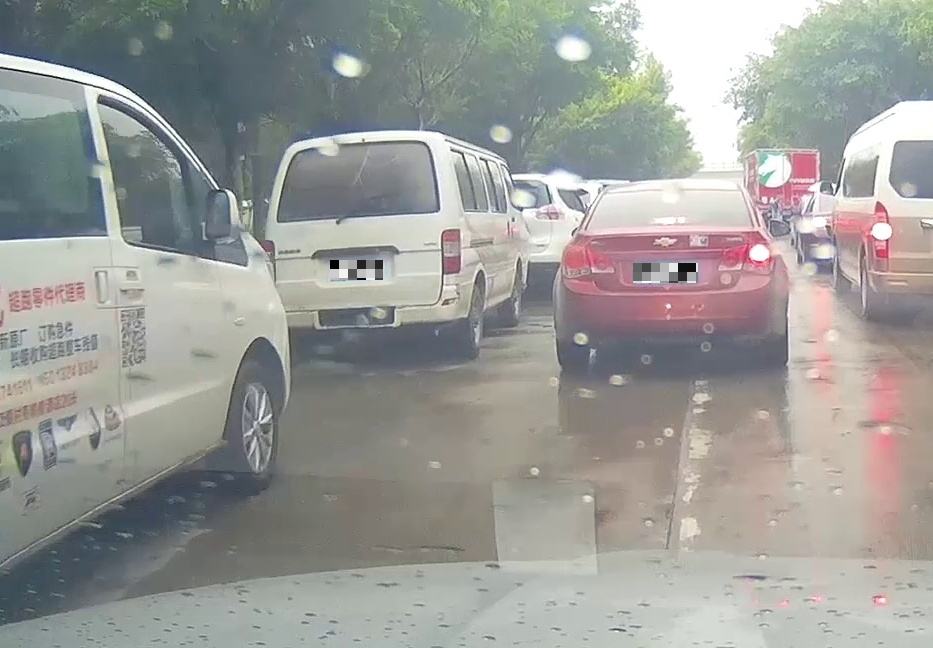L_light: (560, 244, 615, 279), (262, 240, 277, 284)
R_light: (717, 242, 775, 274), (441, 228, 461, 275)
T_light: (653, 217, 686, 223), (335, 138, 364, 143)
day-no: (262, 131, 466, 364)
day-right: (552, 178, 789, 370)
plate_1: (330, 260, 383, 280)
plate_2: (633, 263, 698, 283)
